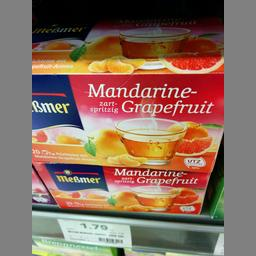tea: (31, 22, 222, 170), (31, 160, 209, 214)
